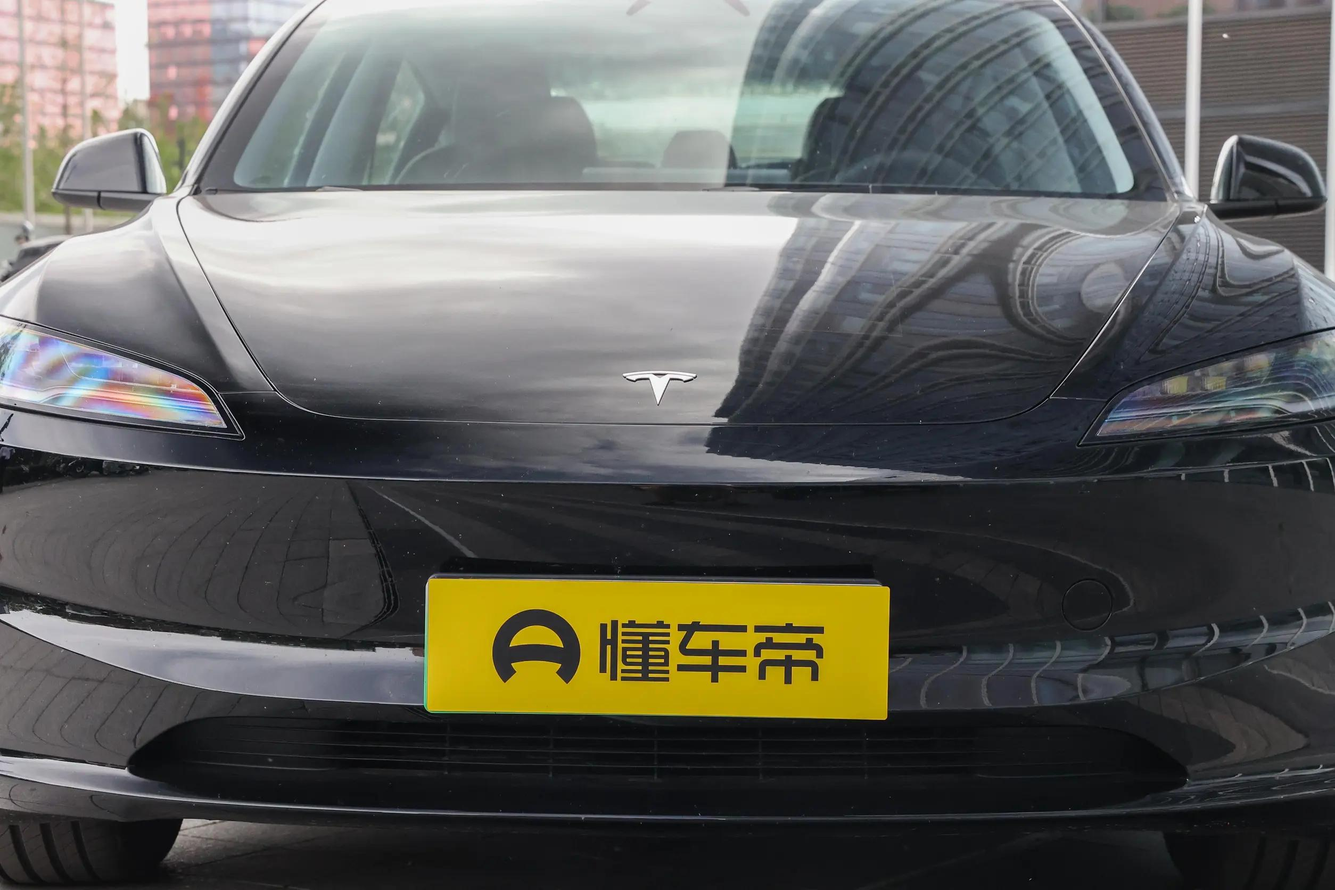Tesla: (621, 370, 698, 407)
